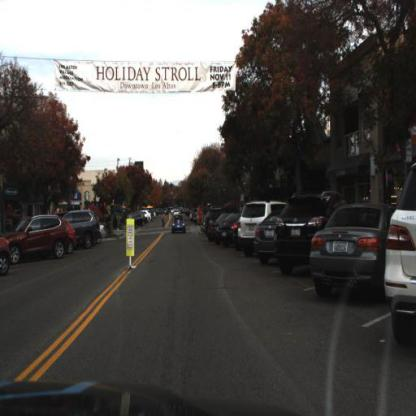car: (310, 199, 388, 300), (384, 160, 416, 350), (275, 188, 328, 277), (5, 213, 71, 265), (63, 206, 100, 250), (239, 197, 268, 253), (255, 211, 277, 270), (63, 214, 79, 258), (170, 212, 188, 235), (232, 214, 241, 254)
